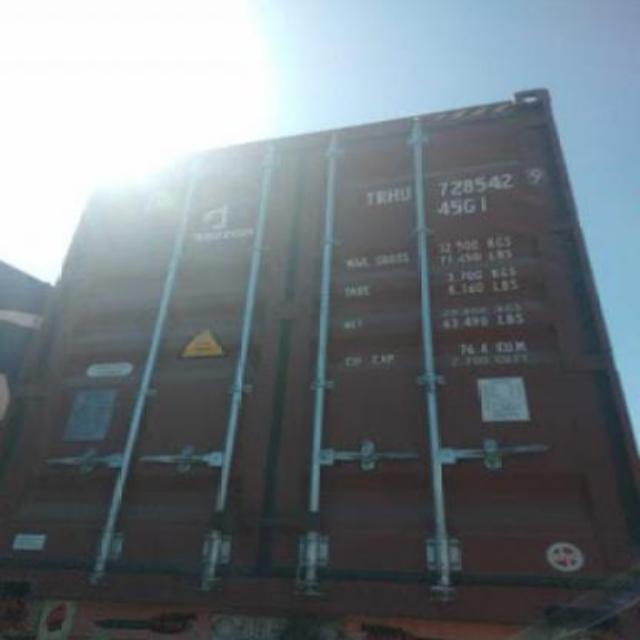2: (498, 168, 514, 194), (448, 176, 462, 197)
4: (486, 170, 499, 193)
5: (474, 172, 486, 195)
7: (434, 177, 448, 200)
8: (461, 174, 474, 196)
9: (526, 160, 546, 186)
H: (386, 182, 398, 208)
R: (374, 185, 386, 211)
T: (361, 185, 374, 211)
U: (396, 180, 409, 207)
